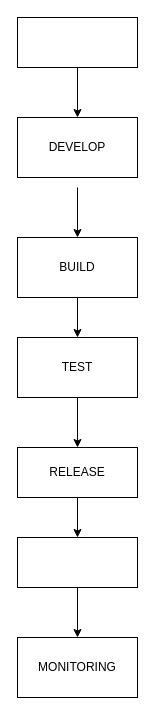
Some shapes in this 155 by 715 pixel diagram are drawn without their labels. Here are the shapes that lost their labels. From the top down, the box of each, then its label:
(16, 16, 138, 68): PLAN
(16, 536, 138, 588): OPERATING
